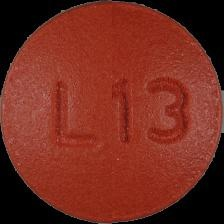54868-2221: (0, 0, 224, 224)
